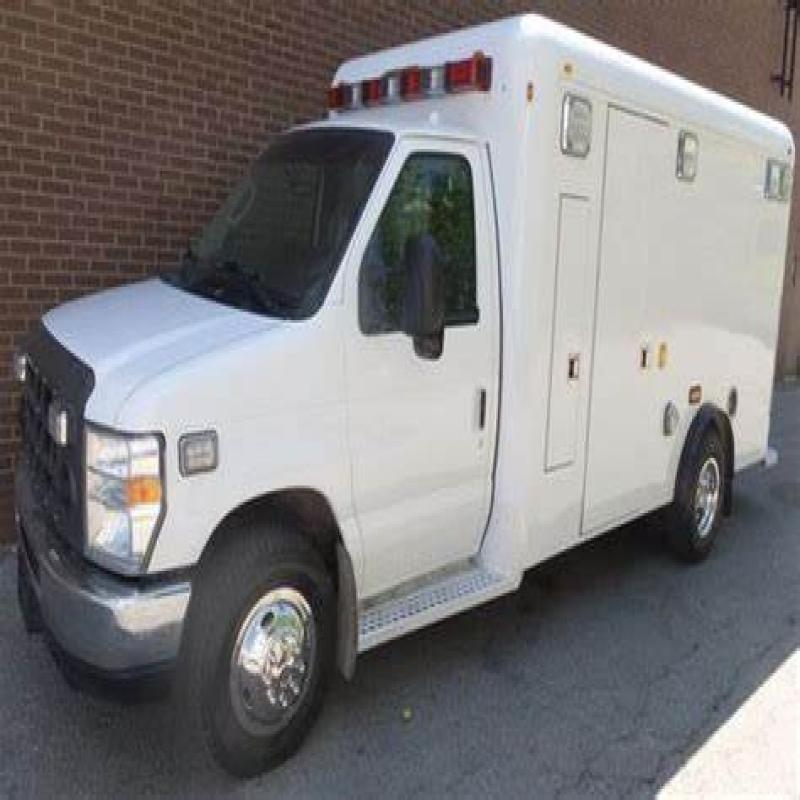AmbulanceSiren: (324, 47, 494, 132)
